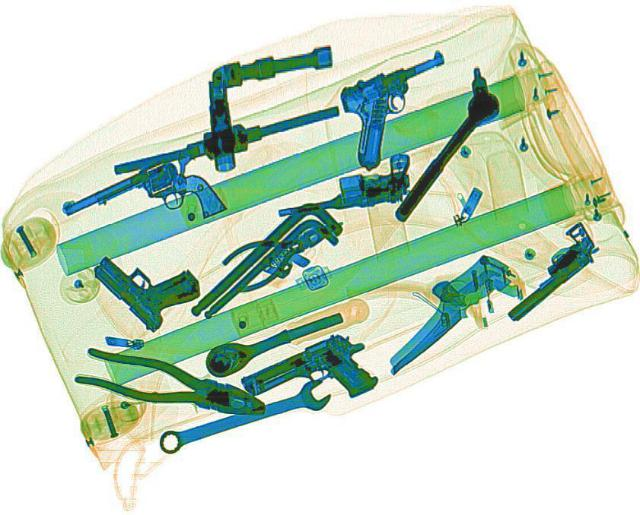Gun: (313, 48, 492, 172), (53, 150, 229, 261), (235, 326, 392, 429), (481, 219, 615, 322), (82, 232, 215, 331), (266, 152, 420, 217)
Pliers: (69, 341, 273, 427), (208, 203, 356, 296)
Wrench: (150, 375, 336, 455)
